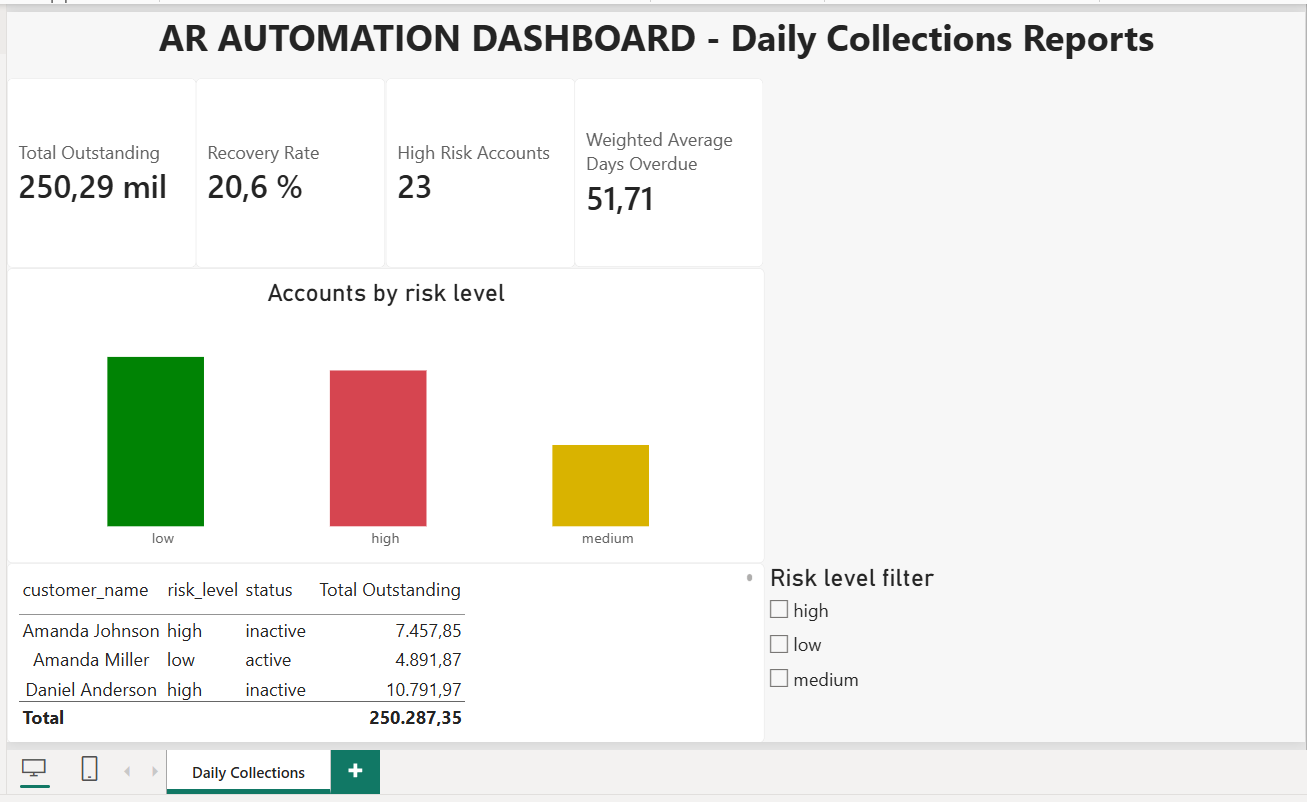

The page's visual inventory and layout, read from the dashboard file:
{"tool":"powerbi","page":{"name":"Daily Collections","canvas":[1920,1080],"ordinal":0},"visuals":[{"type":"cardVisual","fields":{"Data":["public invoices_clean.Total Outstanding"]},"box":[0,98,280,280],"z":0},{"type":"cardVisual","fields":{"Data":["public invoices_clean.Recovery Rate"]},"box":[279.9,98,280,280],"z":1000},{"type":"cardVisual","fields":{"Data":["public invoices_clean.High Risk Accounts"]},"box":[559.9,98,280,280],"z":2000},{"type":"cardVisual","fields":{"Data":["public invoices_clean.Weighted Avegare Days Overdue"]},"box":[839.8,98,279.9,279.9],"z":3000},{"type":"columnChart","title":"Accounts by risk level","fields":{"Category":["public accounts_clean.risk_level"],"Y":["CountNonNull(public accounts_clean.id)"]},"box":[0,378.7,1119.7,436.4],"z":4000},{"type":"tableEx","fields":{"Values":["public accounts_clean.customer_name","public accounts_clean.risk_level","public accounts_clean.status","public invoices_clean.Total Outstanding"]},"box":[0,815.1,1119.7,265.5],"z":5000},{"type":"slicer","fields":{"Values":["public accounts_clean.risk_level"]},"box":[1119.7,815.1,444.6,265.5],"z":6000},{"type":"textbox","box":[0,0,1920.4,98.8],"z":6001}]}

Visuals, with their boxes on the page's 1920x1080 design canvas (x1, y1, x2, y2). These are canvas units, not pixel positions in the 1307x802 screenshot, which may show the page scaled, cropped or inside an application window:
cardVisual - public invoices_clean.Total Outstanding: box(0, 98, 280, 378)
cardVisual - public invoices_clean.Recovery Rate: box(280, 98, 560, 378)
cardVisual - public invoices_clean.High Risk Accounts: box(560, 98, 840, 378)
cardVisual - public invoices_clean.Weighted Avegare Days Overdue: box(840, 98, 1120, 378)
"Accounts by risk level" columnChart: box(0, 379, 1120, 815)
tableEx - public accounts_clean.customer_name x public accounts_clean.risk_level: box(0, 815, 1120, 1081)
slicer - public accounts_clean.risk_level: box(1120, 815, 1564, 1081)
textbox: box(0, 0, 1920, 99)
